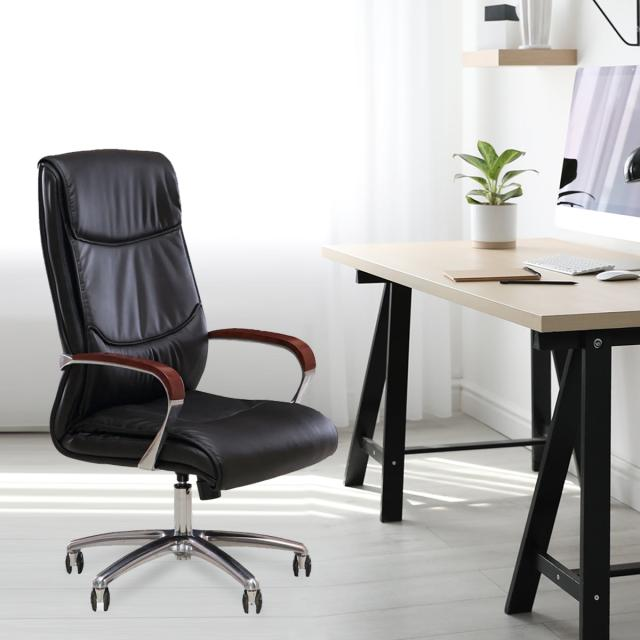chair: (36, 148, 339, 614)
